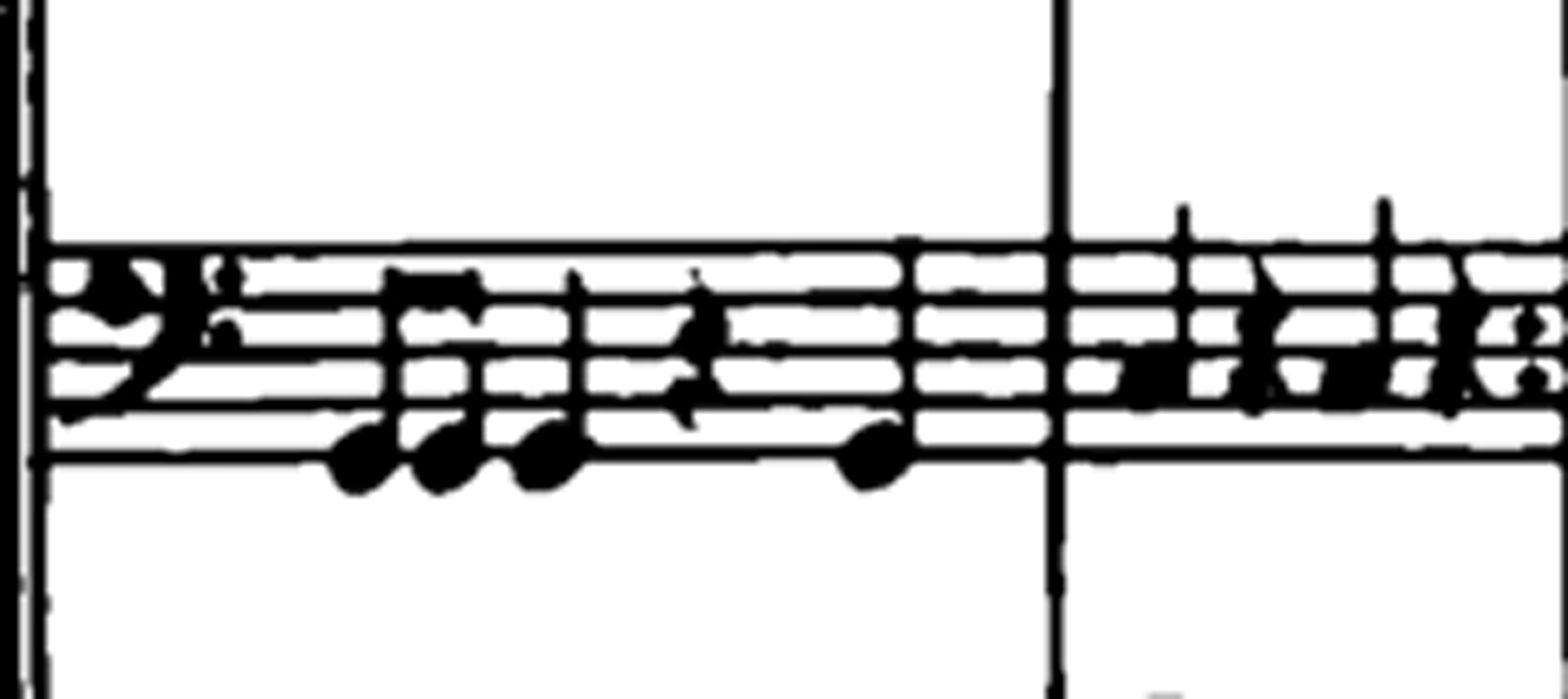clefF: (60, 224, 266, 439)
restHBar: (216, 263, 1390, 337), (413, 424, 1568, 481)
